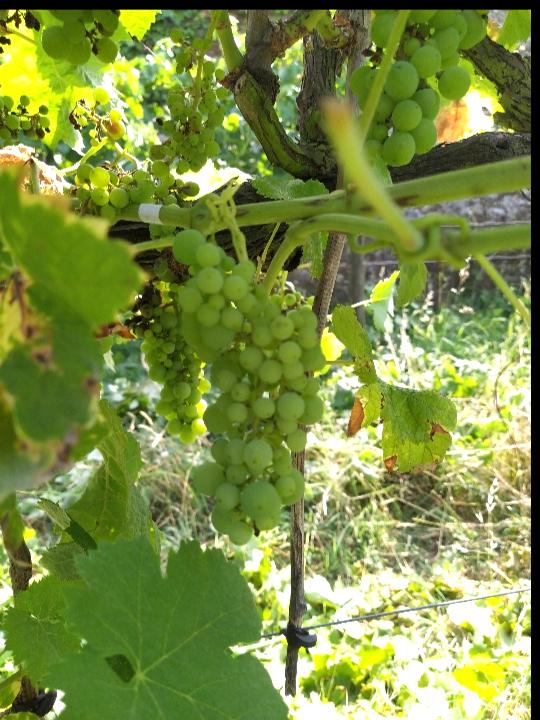grape: (168, 227, 330, 547), (138, 298, 204, 446)
